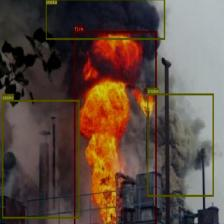fire: (74, 31, 156, 224)
smoke: (2, 100, 79, 218), (147, 93, 213, 197), (45, 0, 165, 39)
